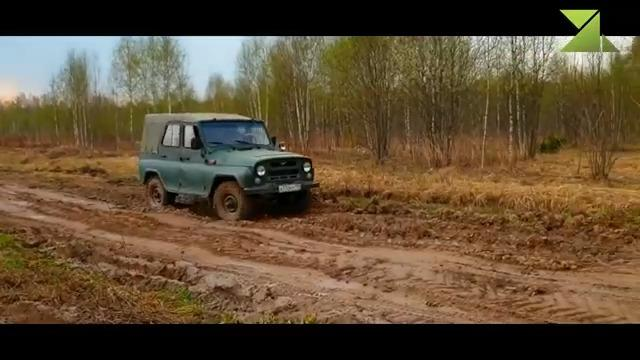MIL_HMMWV: (138, 111, 319, 220)
